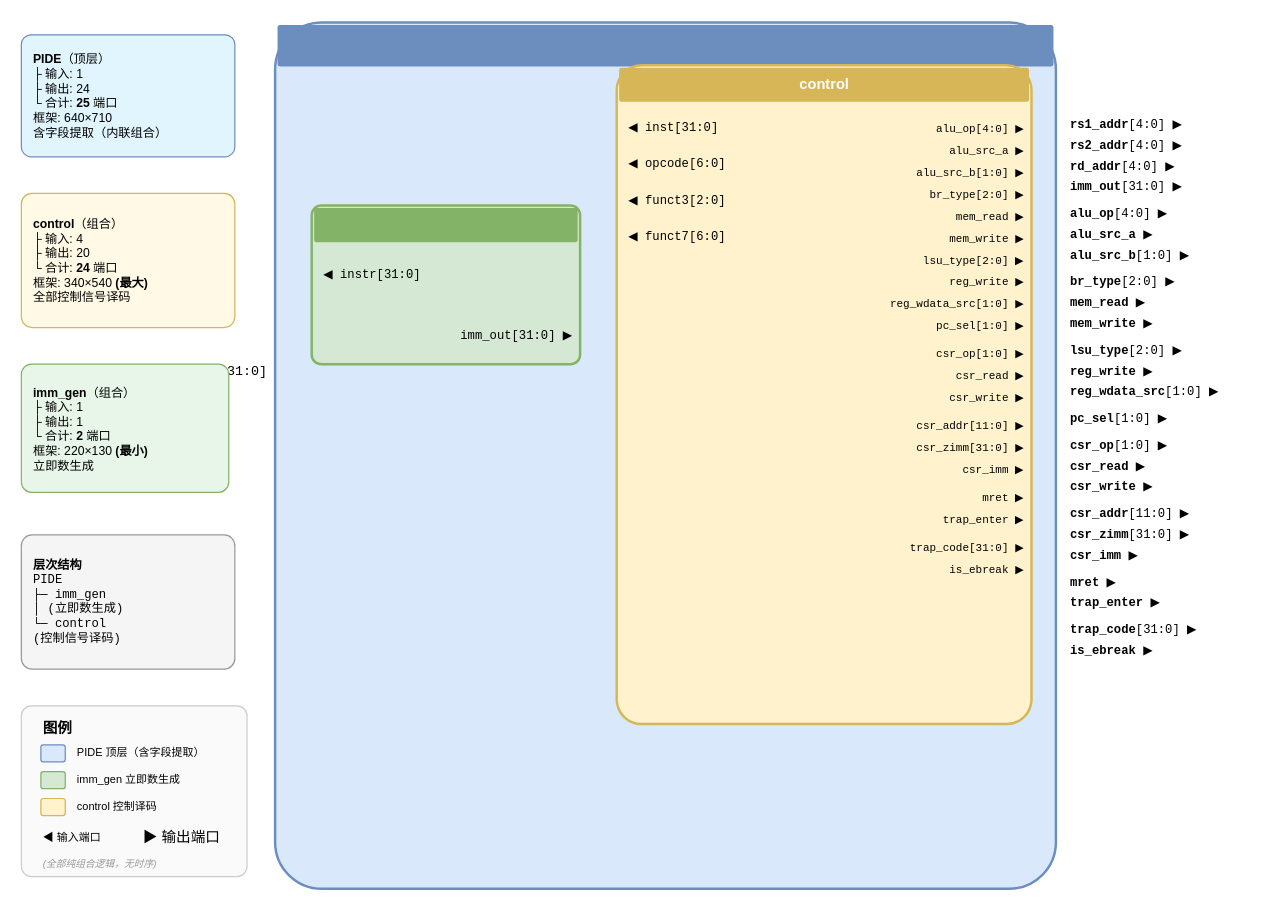
The diagram is 1266 pixels wide and 910 high, and some of its shapes have lost their labels. Here are the shapes that lost their labels. From the top down, the centre of each, then its label:
At point (665, 45): "PIDE".
At point (445, 224): "imm_gen".
